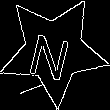N_N: (29, 21, 79, 80)
